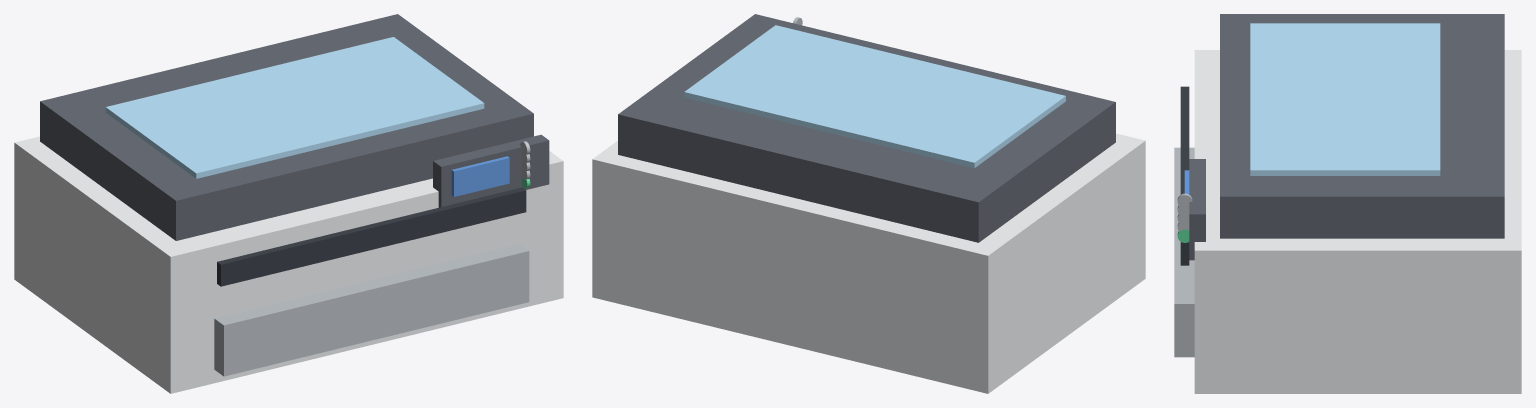
File: asset_scanner.glb
3 views of the same model, side by side, from view 1: azimuth 30°, elevation 25°; view 2: azimuth 150°, elevation 25°; view 3: azimuth 270°, elevation 25° (orthographic). The views are drawn at different scales.
Visible parts, largest first — view 1: body, scanner, glass, tray, output, panel, lcd; view 2: body, scanner, glass; view 3: body, scanner, glass, tray, panel, output.
Part boxes in pixels (box(x1,y1,x2,y2)): body: box(14, 136, 563, 393); scanner: box(40, 14, 533, 240); glass: box(105, 37, 484, 178); tray: box(214, 244, 529, 376); output: box(217, 187, 526, 286); panel: box(433, 134, 549, 207); lcd: box(451, 156, 509, 196); body: box(592, 133, 1145, 393); scanner: box(618, 14, 1115, 242); glass: box(684, 25, 1065, 168); body: box(1194, 50, 1521, 393); scanner: box(1220, 14, 1504, 238); glass: box(1250, 23, 1440, 175); tray: box(1174, 147, 1194, 357); panel: box(1189, 159, 1205, 260); output: box(1180, 86, 1189, 265).
Size of the model in its own units: 2.25 by 1.03 by 1.64.
